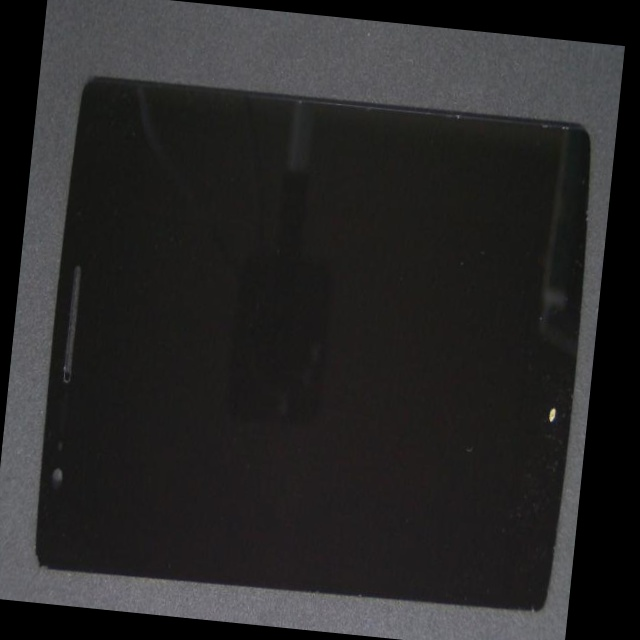stain: (273, 168, 610, 568)
